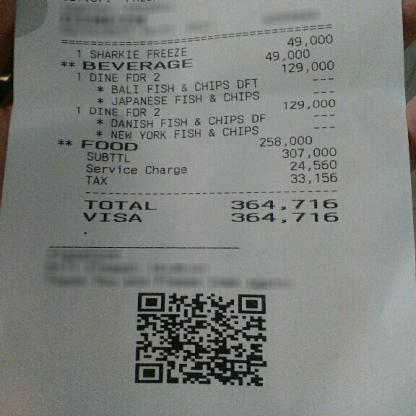receipts: (26, 2, 380, 401)
